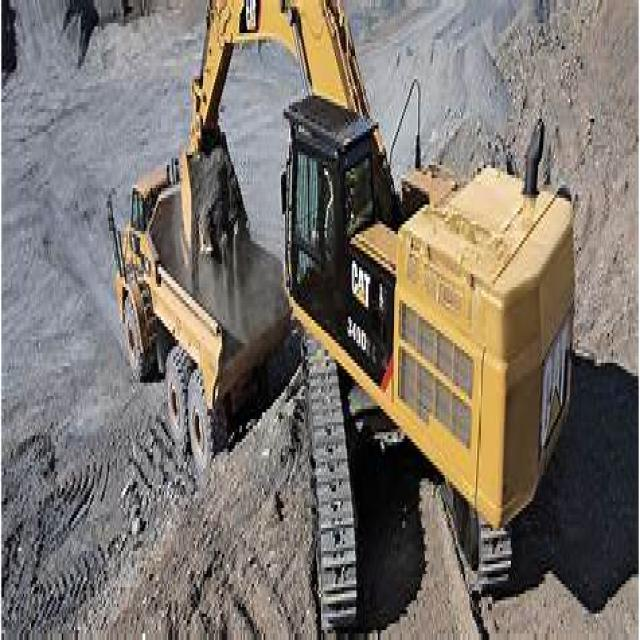dump_truck: (89, 112, 300, 472)
excavator: (169, 3, 589, 637)
